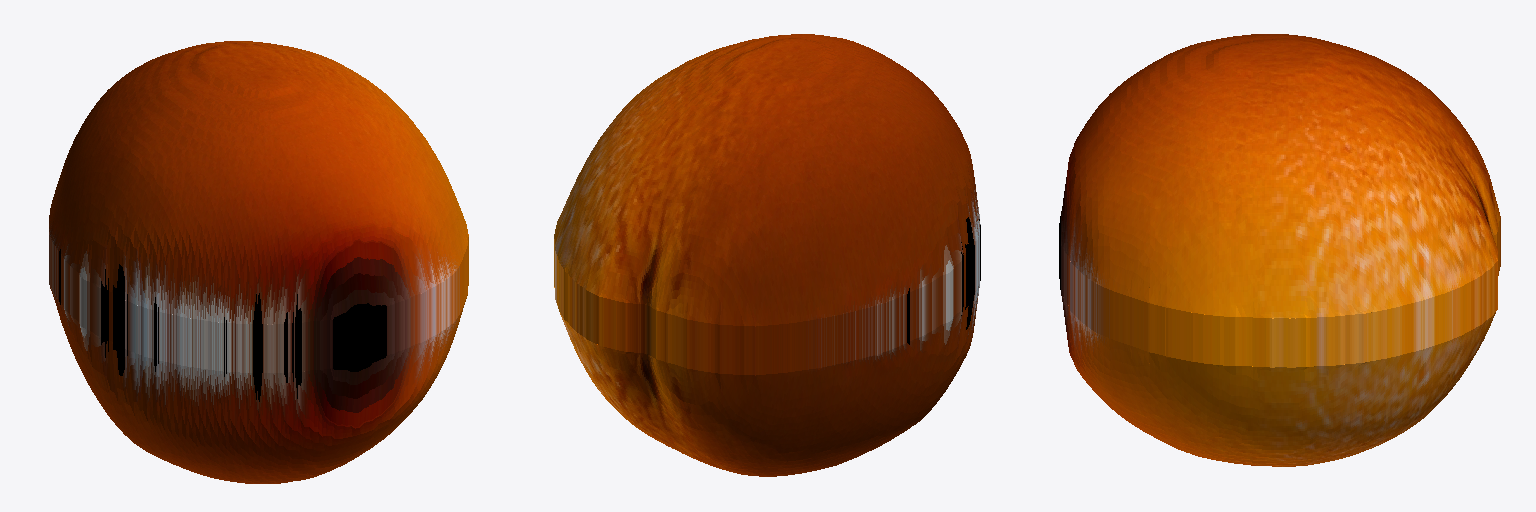
3 views of the same model, side by side, from view 1: azimuth 30°, elevation 25°; view 2: azimuth 150°, elevation 25°; view 3: azimuth 270°, elevation 25° (orthographic).
Parts seen in each view (by area): view 1: Grid; view 2: Grid; view 3: Grid.
Part boxes in pixels (x1,y1,x2,y2): Grid: (49,41,468,483); Grid: (554,34,980,476); Grid: (1059,34,1500,466).
Bounding box in the file's own units: 1.53 × 1.61 × 1.64.
1 materials, 1 textured.